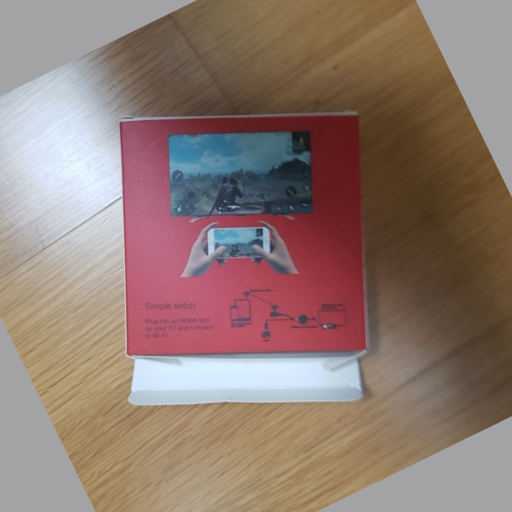Paper_0: (114, 103, 390, 407)
